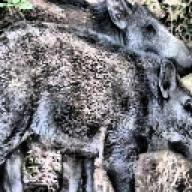boar: (0, 16, 192, 192)
